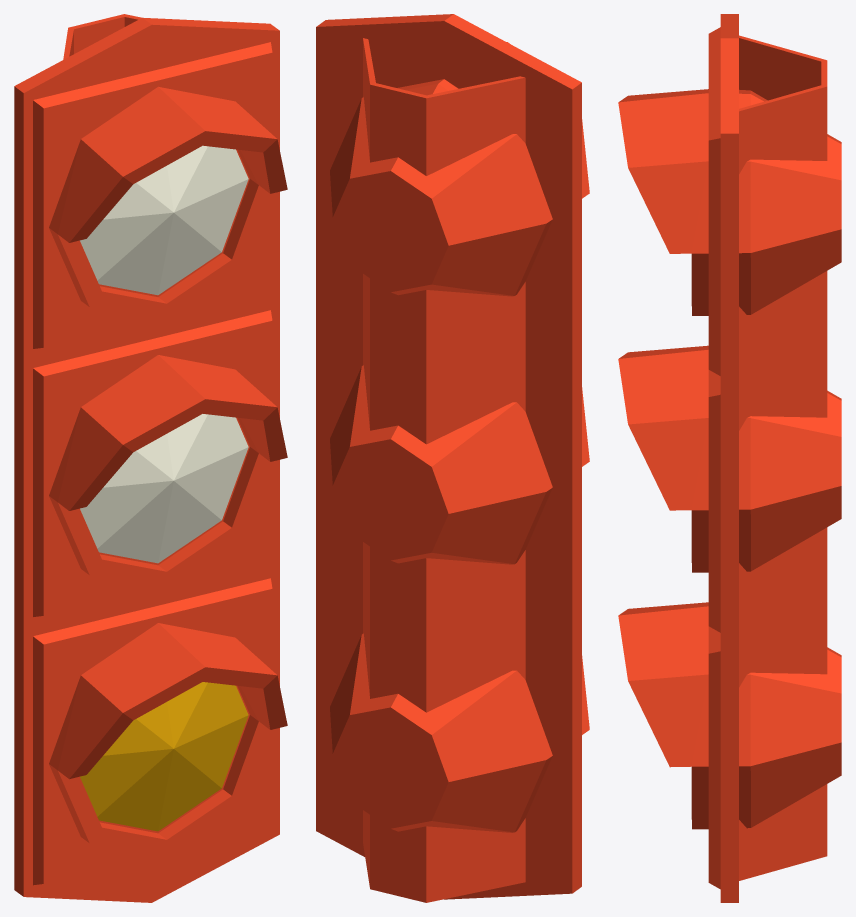
Rendered from SM_Traffic_Light_A_City.fbx.
3 renders of one model, left to right at view 1: azimuth 30°, elevation 25°; view 2: azimuth 150°, elevation 25°; view 3: azimuth 270°, elevation 25°, orthographic. The views are drawn at different scales.
Parts seen in each view (by area): view 1: SM_Traffic_Light_A_City; view 2: SM_Traffic_Light_A_City; view 3: SM_Traffic_Light_A_City.
Boxes of the visible parts, x1,y1,x2,y2 form: SM_Traffic_Light_A_City: (14, 14, 287, 902); SM_Traffic_Light_A_City: (316, 14, 589, 902); SM_Traffic_Light_A_City: (618, 14, 841, 902).
Size of the model in its own units: 0.3467 by 1.14 by 0.2736.
